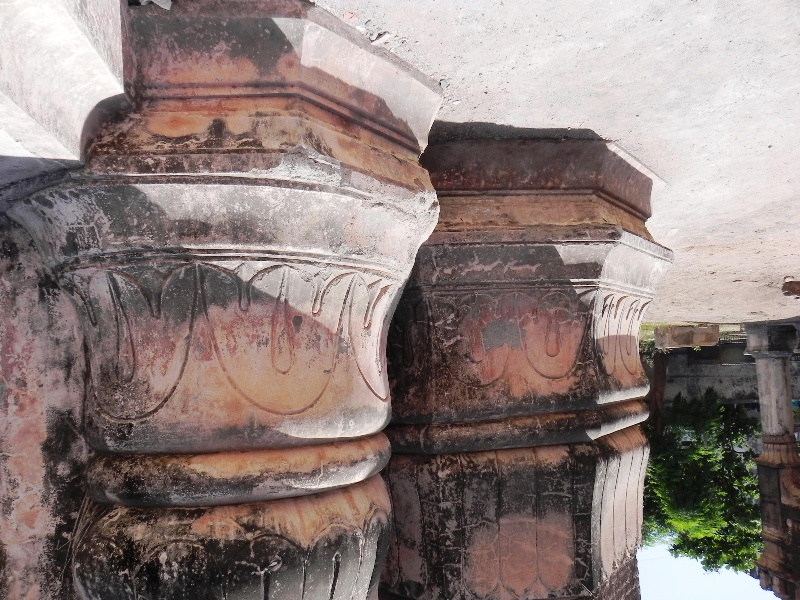Spalling: (252, 140, 357, 194), (474, 315, 535, 361)
